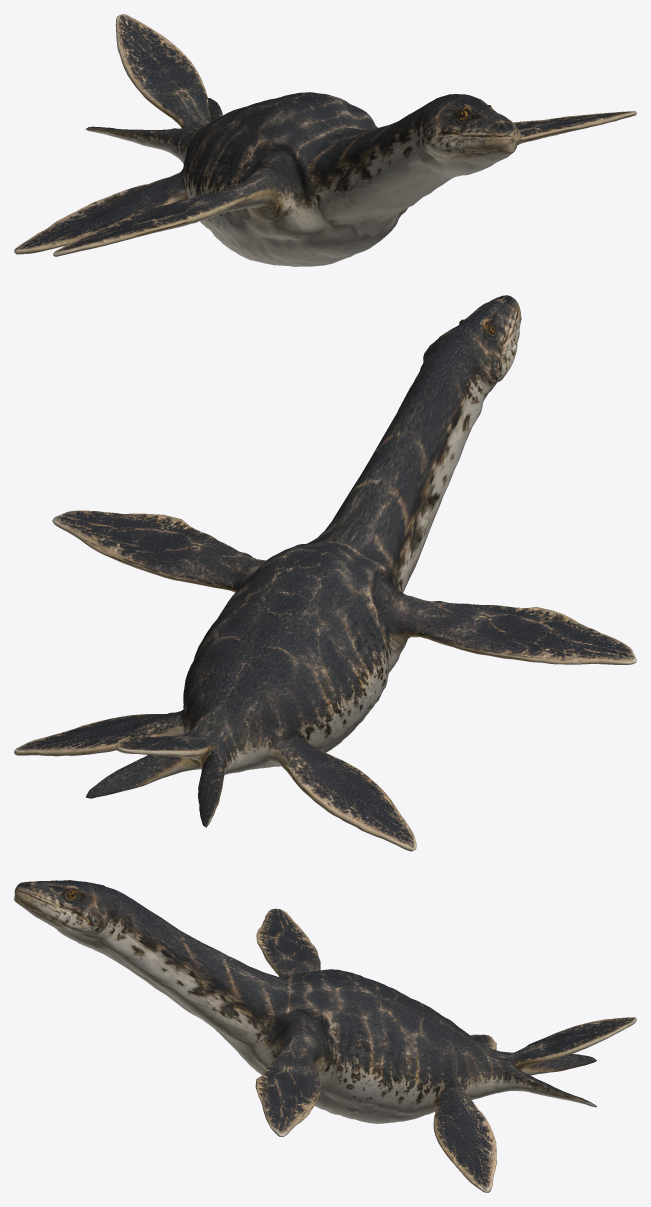
The model's file is rhaeticosaurus.preview.glb.
3 renders of one model, top to bottom at view 1: azimuth 30°, elevation 25°; view 2: azimuth 150°, elevation 25°; view 3: azimuth 270°, elevation 25°, orthographic. The views are drawn at different scales.
Parts seen in each view (by area): view 1: tripo_node_fc7ac57e-a434-417d-9c85-cd53116e6664.001; view 2: tripo_node_fc7ac57e-a434-417d-9c85-cd53116e6664.001; view 3: tripo_node_fc7ac57e-a434-417d-9c85-cd53116e6664.001.
Part boxes in pixels (x1,y1,x2,y2): tripo_node_fc7ac57e-a434-417d-9c85-cd53116e6664.001: (14, 14, 636, 266); tripo_node_fc7ac57e-a434-417d-9c85-cd53116e6664.001: (14, 295, 636, 851); tripo_node_fc7ac57e-a434-417d-9c85-cd53116e6664.001: (14, 880, 636, 1192).
Size of the model in its own units: 1 by 0.4837 by 1.16.
Materials: 1 (1 with a texture image).
